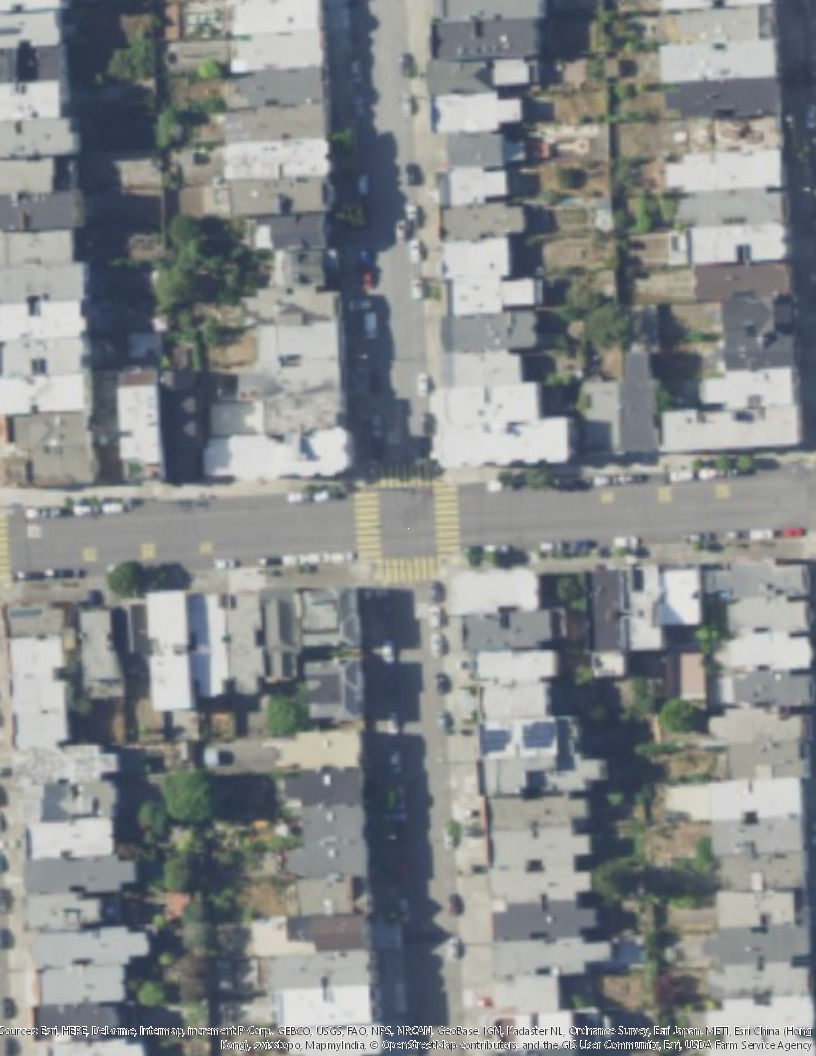zebracross: (352, 488, 384, 558), (373, 459, 436, 491), (435, 481, 463, 551), (378, 555, 440, 584), (1, 509, 10, 574)
